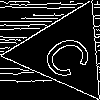C: (39, 27, 100, 83)
